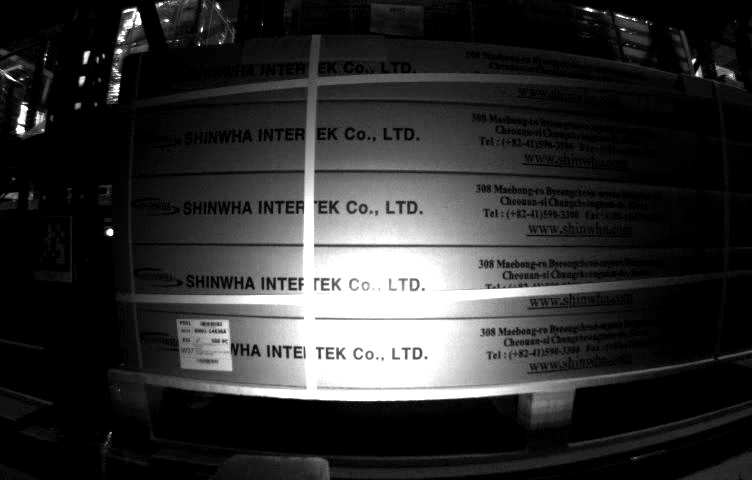True Barcode: (175, 318, 234, 373)
